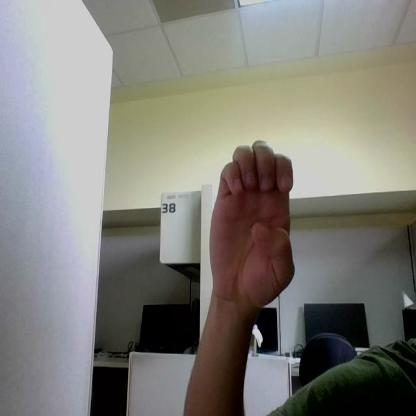E: (209, 140, 293, 305)
